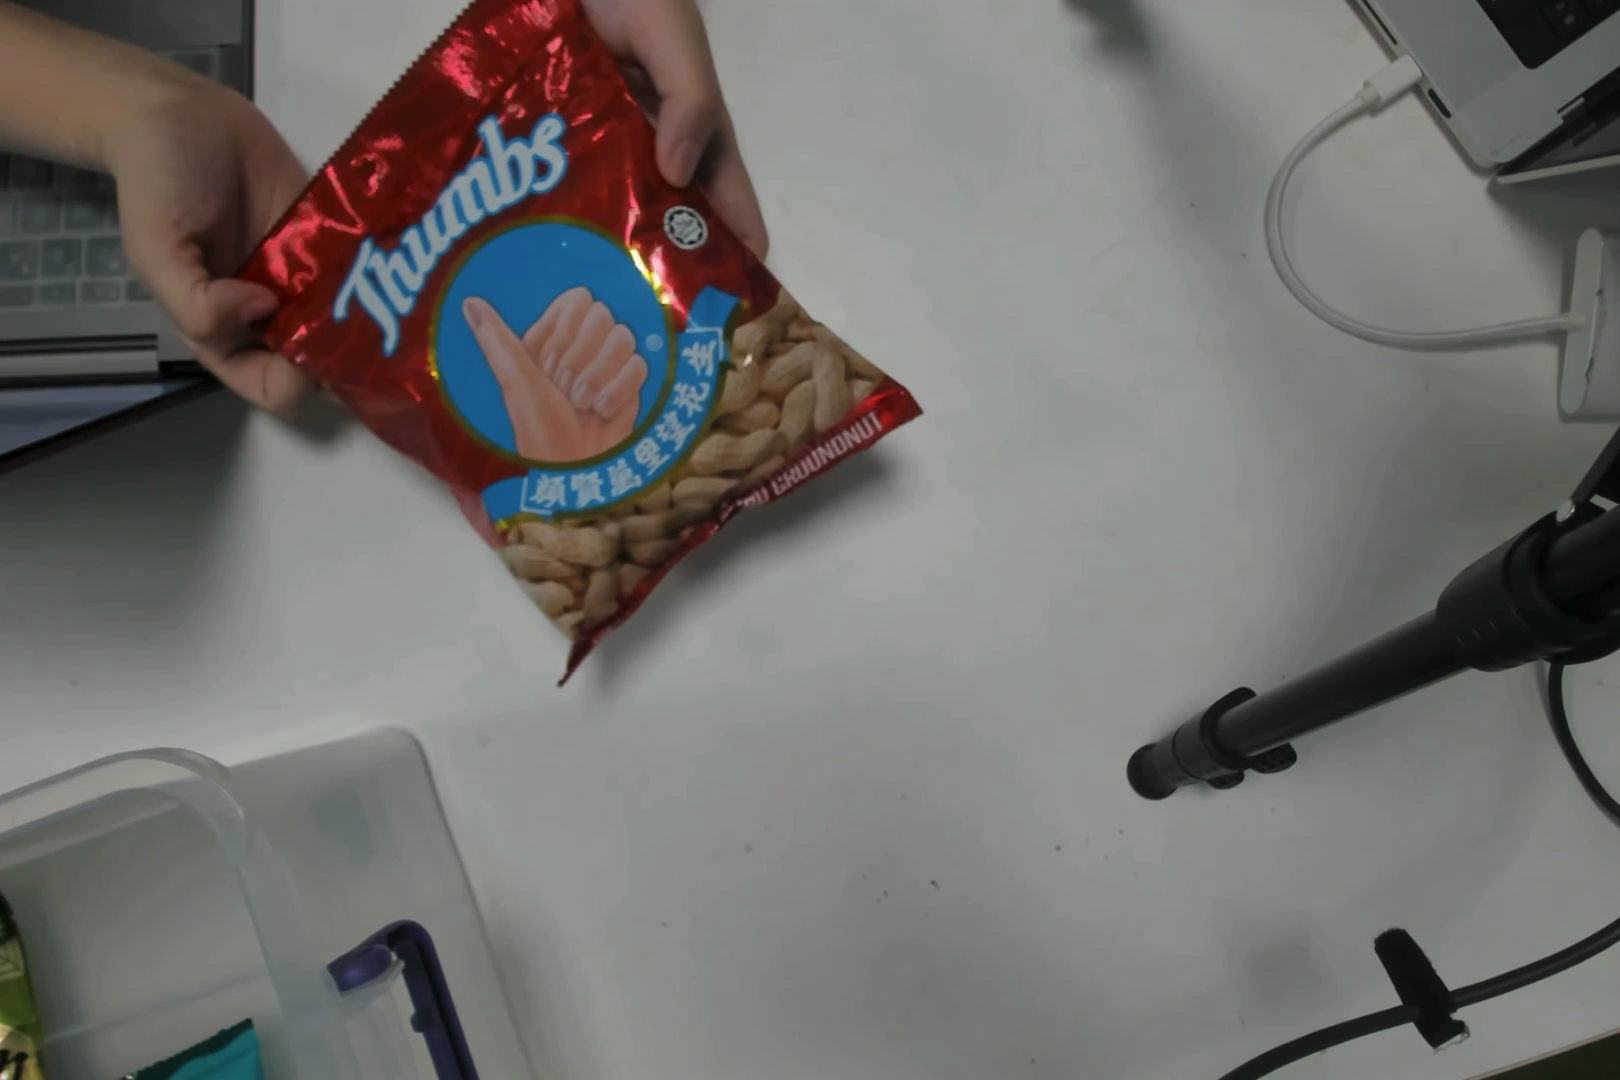Nuts_100-199g_Halal_NonHealthy: (363, 63, 829, 604)
